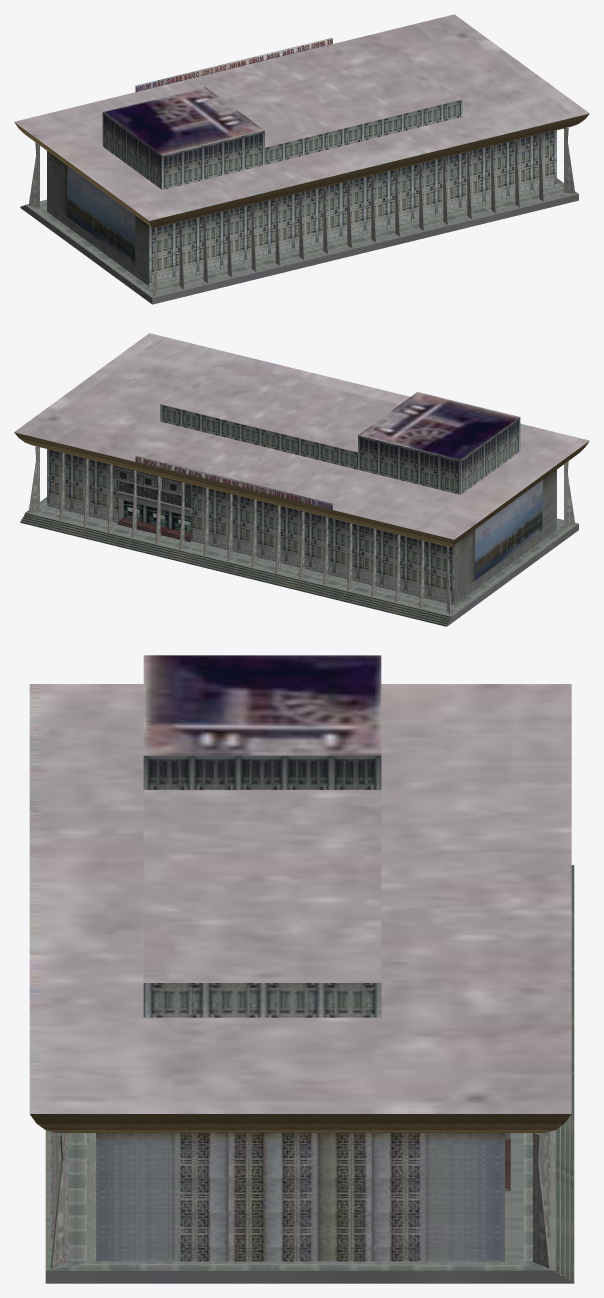
The picture shows the model from 3 angles, top to bottom: view 1: azimuth 30°, elevation 25°; view 2: azimuth 150°, elevation 25°; view 3: azimuth 270°, elevation 25°; orthographic projection. The views are drawn at different scales.
Parts seen in each view (by area): view 1: HN690___Cung_van_hoa_Huu_Nghi_Viet_Xo; view 2: HN690___Cung_van_hoa_Huu_Nghi_Viet_Xo; view 3: HN690___Cung_van_hoa_Huu_Nghi_Viet_Xo.
Part boxes in pixels (box(x1,y1,x2,y2)): HN690___Cung_van_hoa_Huu_Nghi_Viet_Xo: box(14, 14, 589, 304); HN690___Cung_van_hoa_Huu_Nghi_Viet_Xo: box(14, 333, 589, 626); HN690___Cung_van_hoa_Huu_Nghi_Viet_Xo: box(29, 655, 574, 1283).
Bounding box in the file's own units: 107 × 28.5 × 57.3.
1 material, 1 textured.
